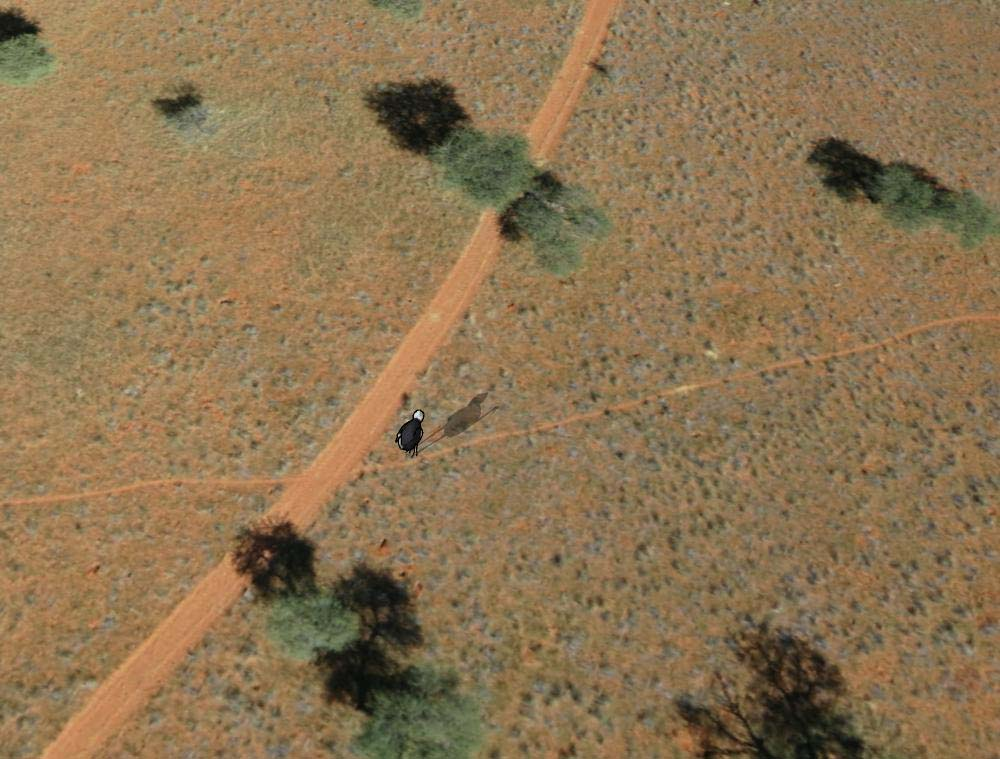ostrich: (389, 407, 438, 463)
